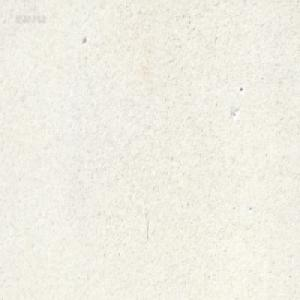Wrench: (153, 0, 159, 4)
